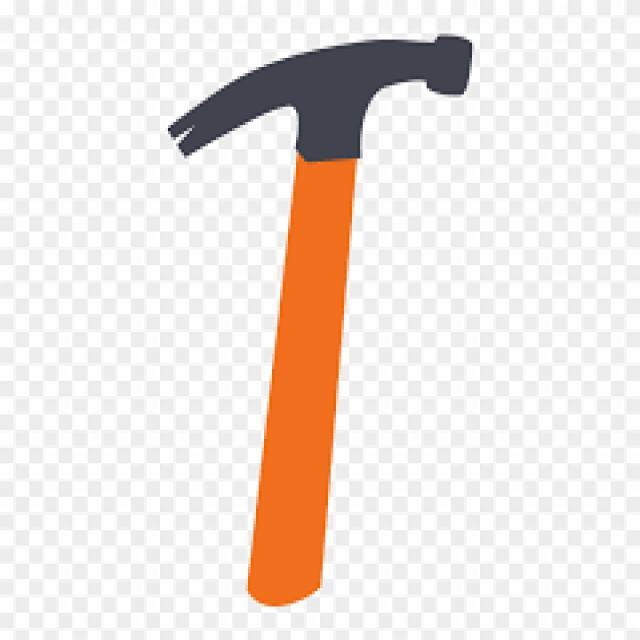hammer: (138, 20, 486, 622)
